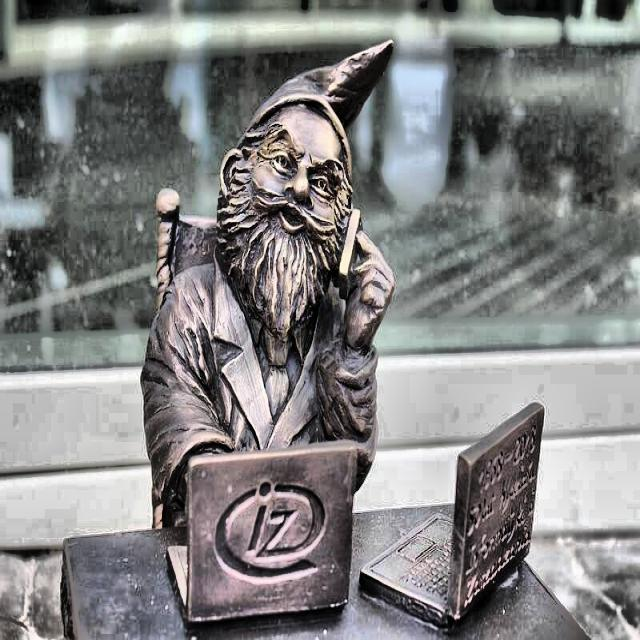WIZek: (62, 41, 581, 638)
